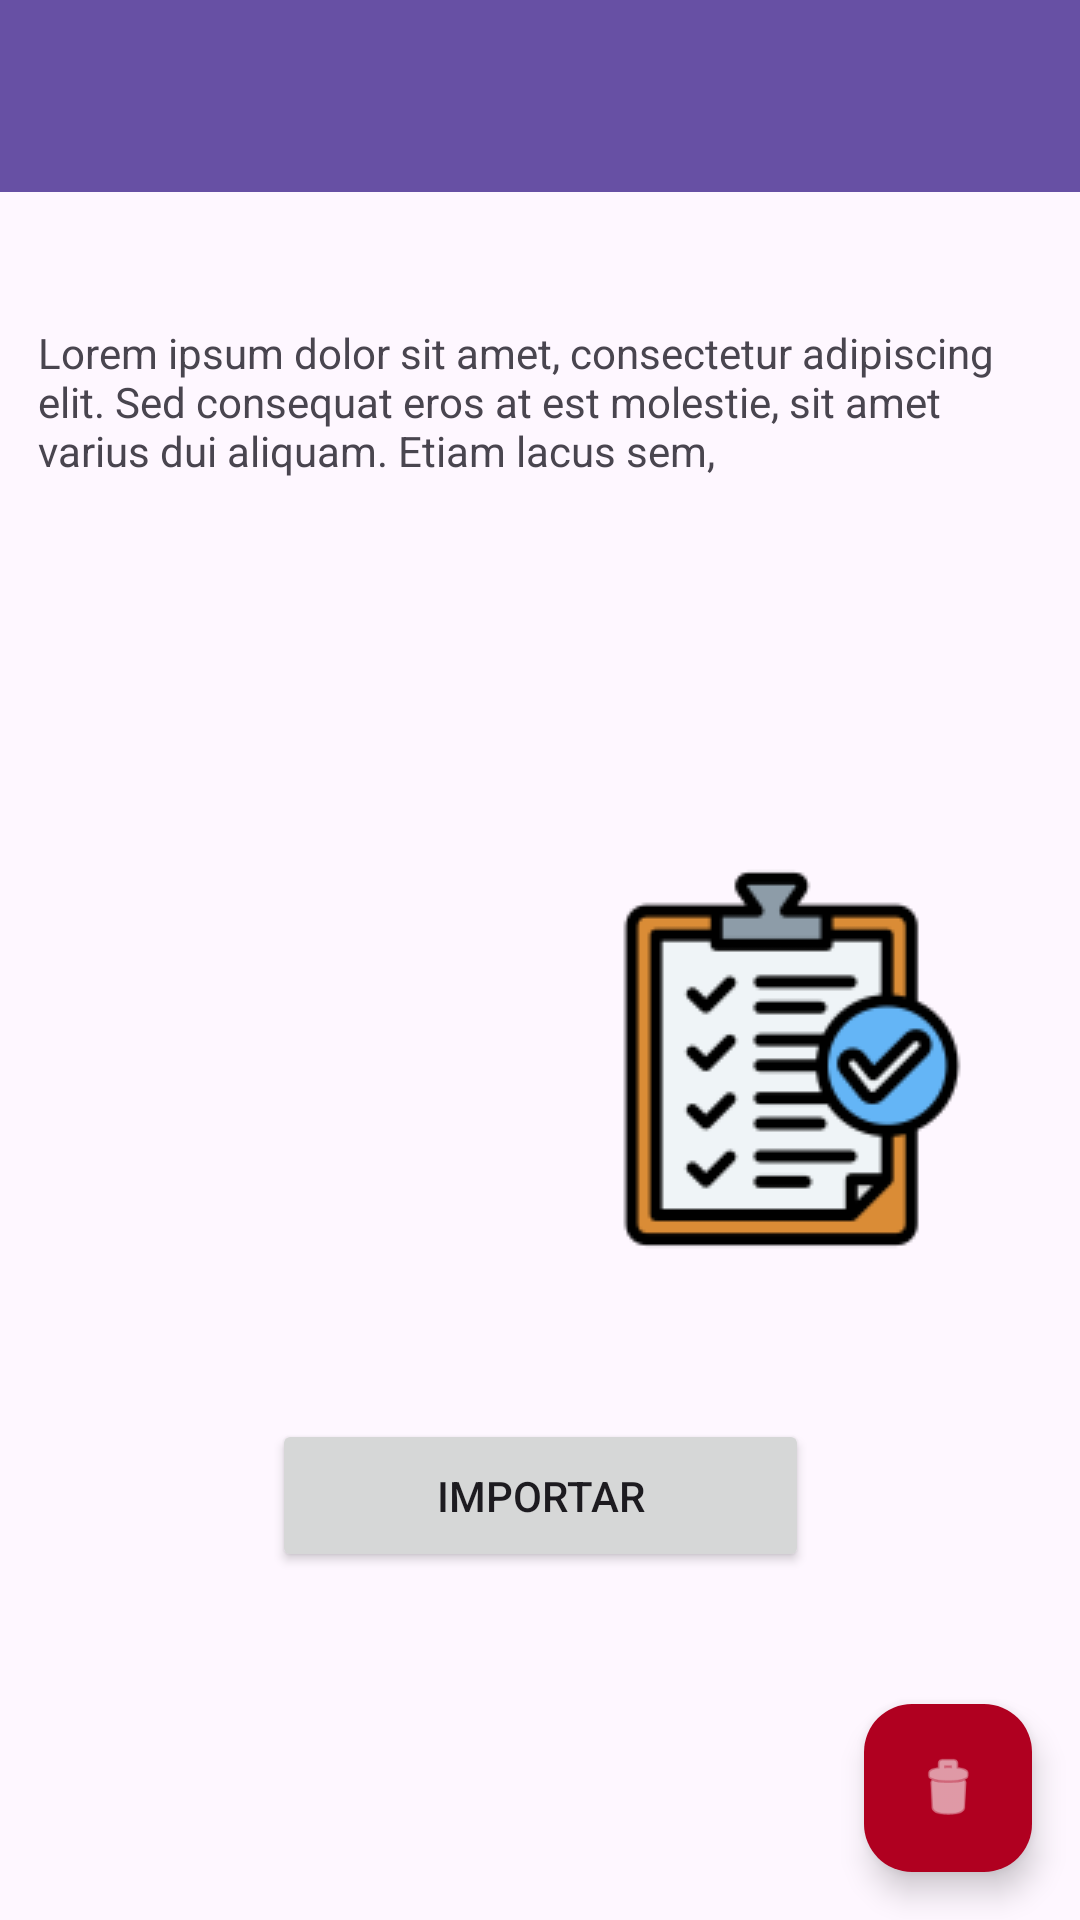

Where to tap for icons on this 1080*1920 app screen, as (x=x, y=y):
Borrar: (x=948, y=1788)
